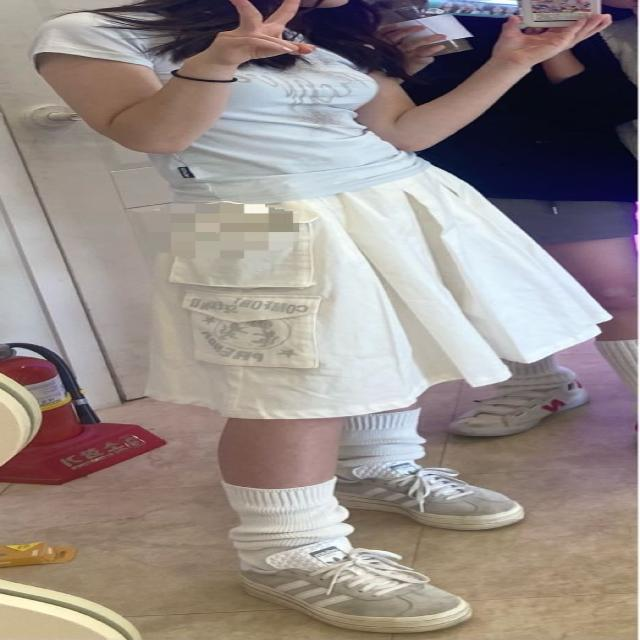shortsleeve: (27, 7, 437, 201)
skirt: (147, 156, 618, 422)
